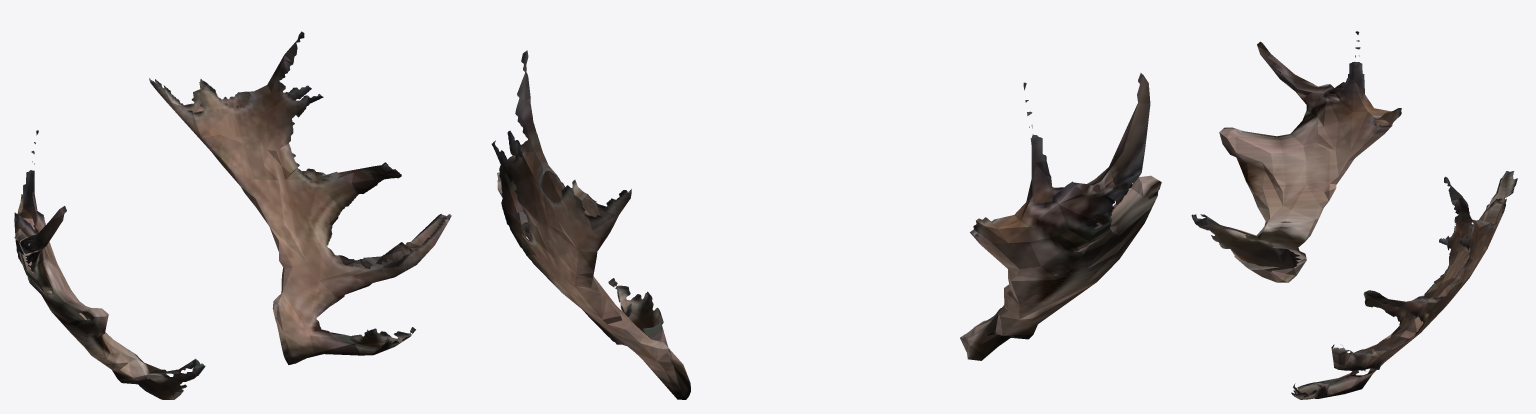
File: elkantlers-lite.glb
3 views of the same model, side by side, from view 1: azimuth 30°, elevation 25°; view 2: azimuth 150°, elevation 25°; view 3: azimuth 270°, elevation 25° (orthographic). The views are drawn at different scales.
Visible parts, largest first — view 1: geometry_0; view 2: geometry_0; view 3: geometry_0.
Part boxes in pixels (x1,y1,x2,y2): geometry_0: (14,31,451,399); geometry_0: (491,50,1161,399); geometry_0: (1191,31,1517,399).
Bounding box in the file's own units: 1.04 × 0.6912 × 0.7713.
Materials: 1 (1 with a texture image).
